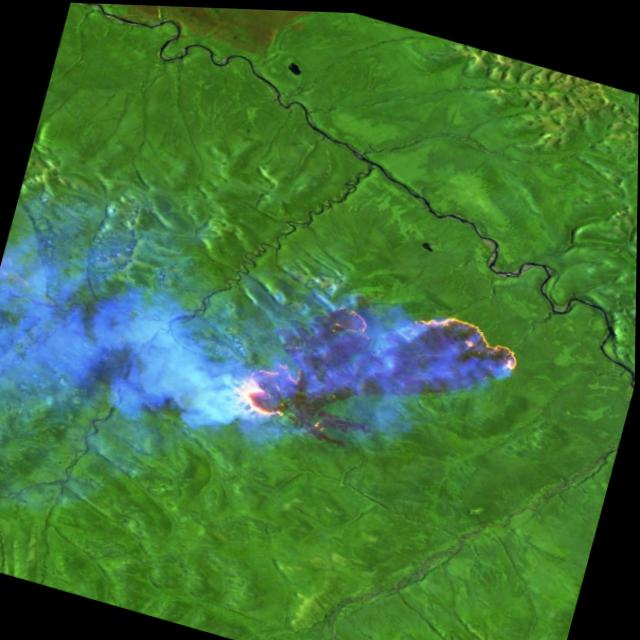fire: (220, 255, 528, 486)
